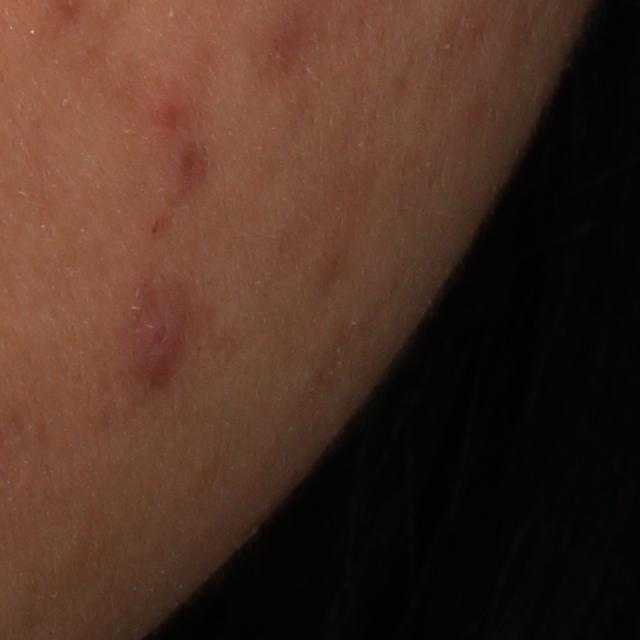papule: (118, 294, 199, 390)
